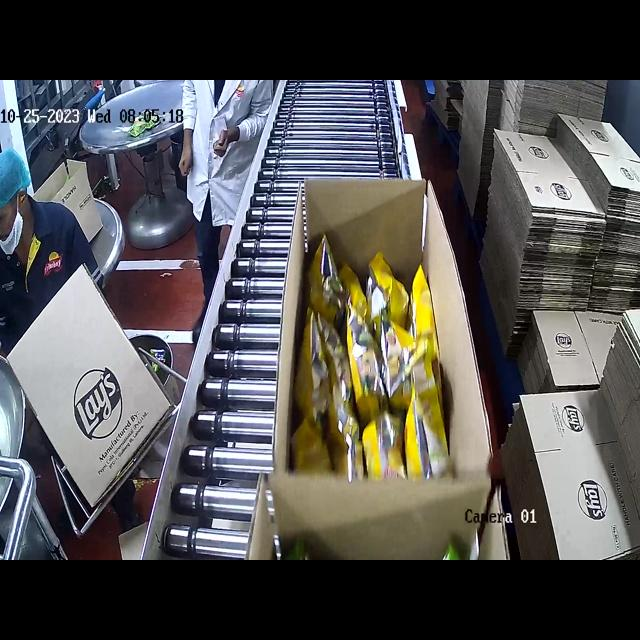salted: (298, 212, 456, 501)
